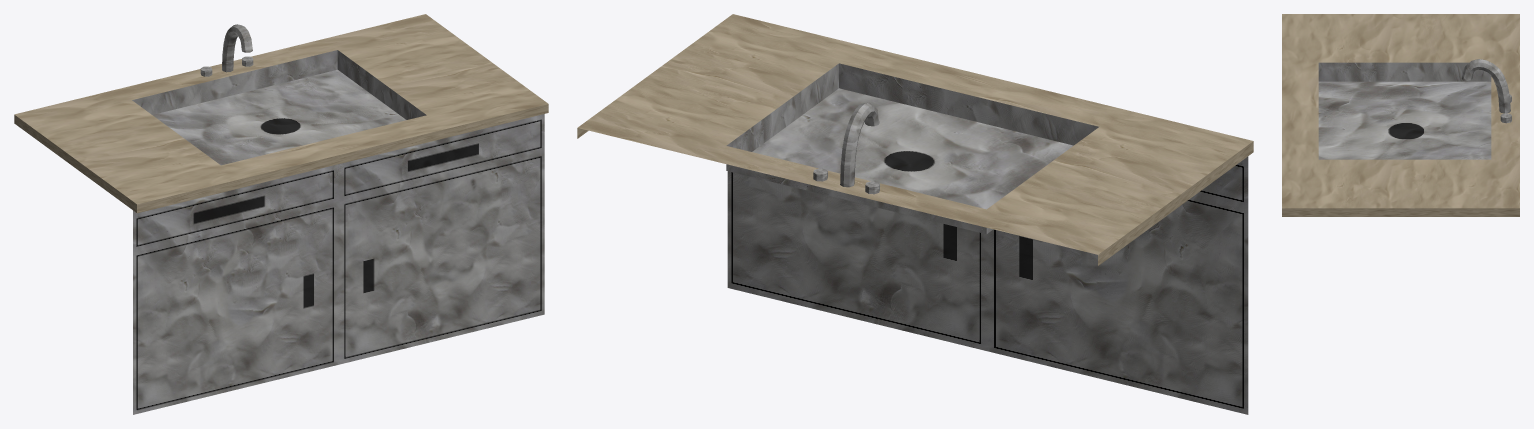
Rendered from dishwasher.fbx.
3 views of the same model, side by side, from view 1: azimuth 30°, elevation 25°; view 2: azimuth 150°, elevation 25°; view 3: azimuth 270°, elevation 25° (orthographic). The views are drawn at different scales.
Visible parts, largest first — view 1: DishWasher, keys; view 2: DishWasher, keys; view 3: DishWasher, keys.
Part boxes in pixels (box(x1,y1,x2,y2)): DishWasher: box(14, 14, 548, 414); keys: box(200, 24, 253, 76); DishWasher: box(577, 14, 1253, 414); keys: box(813, 102, 879, 194); DishWasher: box(1282, 14, 1519, 216); keys: box(1461, 59, 1511, 123).
Bounding box in the file's own units: 200 × 124 × 103.
